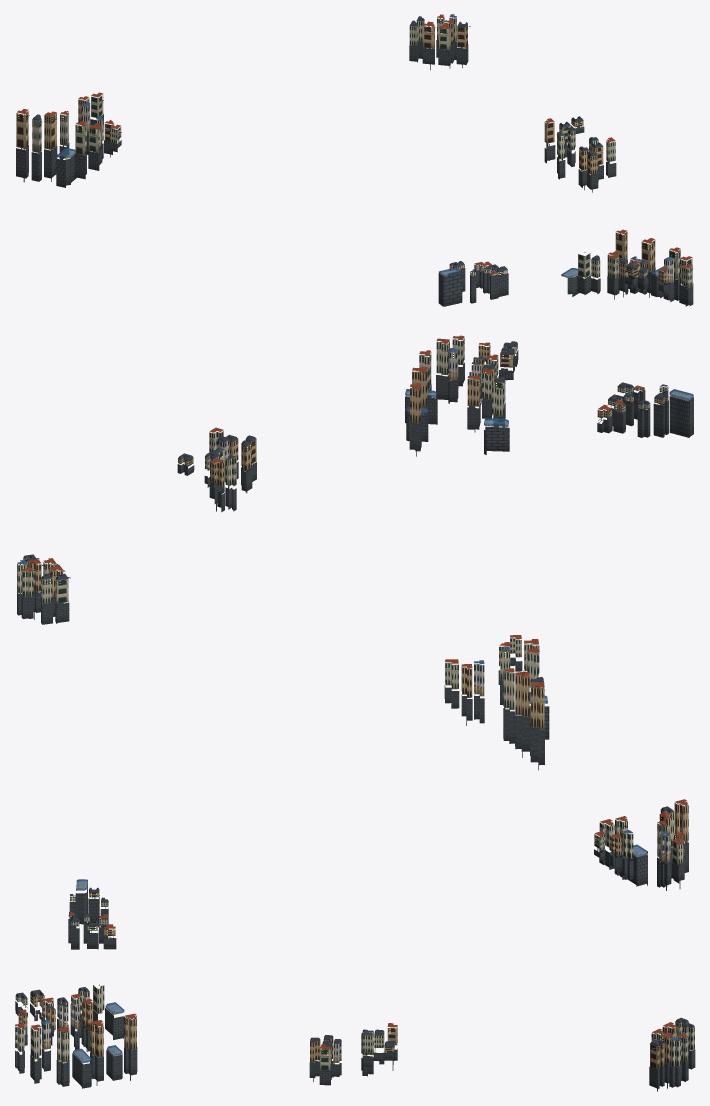
The model's file is osm_buildings_T_W01_S01_Q3.glb.
The picture shows the model from 3 angles, top to bottom: view 1: azimuth 30°, elevation 25°; view 2: azimuth 150°, elevation 25°; view 3: azimuth 270°, elevation 25°; orthographic projection. The views are drawn at different scales.
Parts seen in each view (by area): view 1: OSM_PBR_T_W01_S01_Q3_foundation, OSM_PBR_T_W01_S01_Q3_wall_cream_stucco, OSM_PBR_T_W01_S01_Q3_wall_french_ochre, OSM_PBR_T_W01_S01_Q3_roof_terracotta, OSM_PBR_T_W01_S01_Q3_roof_mansard_slate, OSM_PBR_T_W01_S01_Q3_greenhouse_blend; view 2: OSM_PBR_T_W01_S01_Q3_foundation, OSM_PBR_T_W01_S01_Q3_wall_cream_stucco, OSM_PBR_T_W01_S01_Q3_wall_french_ochre, OSM_PBR_T_W01_S01_Q3_roof_terracotta, OSM_PBR_T_W01_S01_Q3_roof_mansard_slate; view 3: OSM_PBR_T_W01_S01_Q3_foundation, OSM_PBR_T_W01_S01_Q3_wall_cream_stucco, OSM_PBR_T_W01_S01_Q3_wall_french_ochre, OSM_PBR_T_W01_S01_Q3_roof_terracotta, OSM_PBR_T_W01_S01_Q3_roof_mansard_slate, OSM_PBR_T_W01_S01_Q3_greenhouse_blend, OSM_PBR_T_W01_S01_Q3_wall_warm_white, OSM_PBR_T_W01_S01_Q3_wall_pastel_sand.
Boxes of the visible parts, x1,y1,x2,y2 form: OSM_PBR_T_W01_S01_Q3_foundation: [16, 40, 693, 306]; OSM_PBR_T_W01_S01_Q3_wall_cream_stucco: [32, 16, 692, 288]; OSM_PBR_T_W01_S01_Q3_wall_french_ochre: [16, 21, 667, 283]; OSM_PBR_T_W01_S01_Q3_roof_terracotta: [17, 14, 692, 274]; OSM_PBR_T_W01_S01_Q3_roof_mansard_slate: [32, 16, 647, 273]; OSM_PBR_T_W01_S01_Q3_greenhouse_blend: [56, 148, 663, 277]; OSM_PBR_T_W01_S01_Q3_foundation: [17, 350, 693, 770]; OSM_PBR_T_W01_S01_Q3_wall_cream_stucco: [17, 337, 668, 721]; OSM_PBR_T_W01_S01_Q3_wall_french_ochre: [23, 345, 668, 729]; OSM_PBR_T_W01_S01_Q3_roof_terracotta: [22, 335, 644, 687]; OSM_PBR_T_W01_S01_Q3_roof_mansard_slate: [23, 342, 668, 682]; OSM_PBR_T_W01_S01_Q3_foundation: [15, 841, 695, 1091]; OSM_PBR_T_W01_S01_Q3_wall_cream_stucco: [15, 810, 694, 1070]; OSM_PBR_T_W01_S01_Q3_wall_french_ochre: [18, 802, 688, 1069]; OSM_PBR_T_W01_S01_Q3_roof_terracotta: [15, 799, 687, 1048]; OSM_PBR_T_W01_S01_Q3_roof_mansard_slate: [16, 808, 694, 1047]; OSM_PBR_T_W01_S01_Q3_greenhouse_blend: [73, 844, 647, 1063]; OSM_PBR_T_W01_S01_Q3_wall_warm_white: [42, 917, 341, 1062]; OSM_PBR_T_W01_S01_Q3_wall_pastel_sand: [58, 833, 670, 1029].
Bounding box in the file's own units: 824 × 150 × 999.
18 materials, 16 textured.
